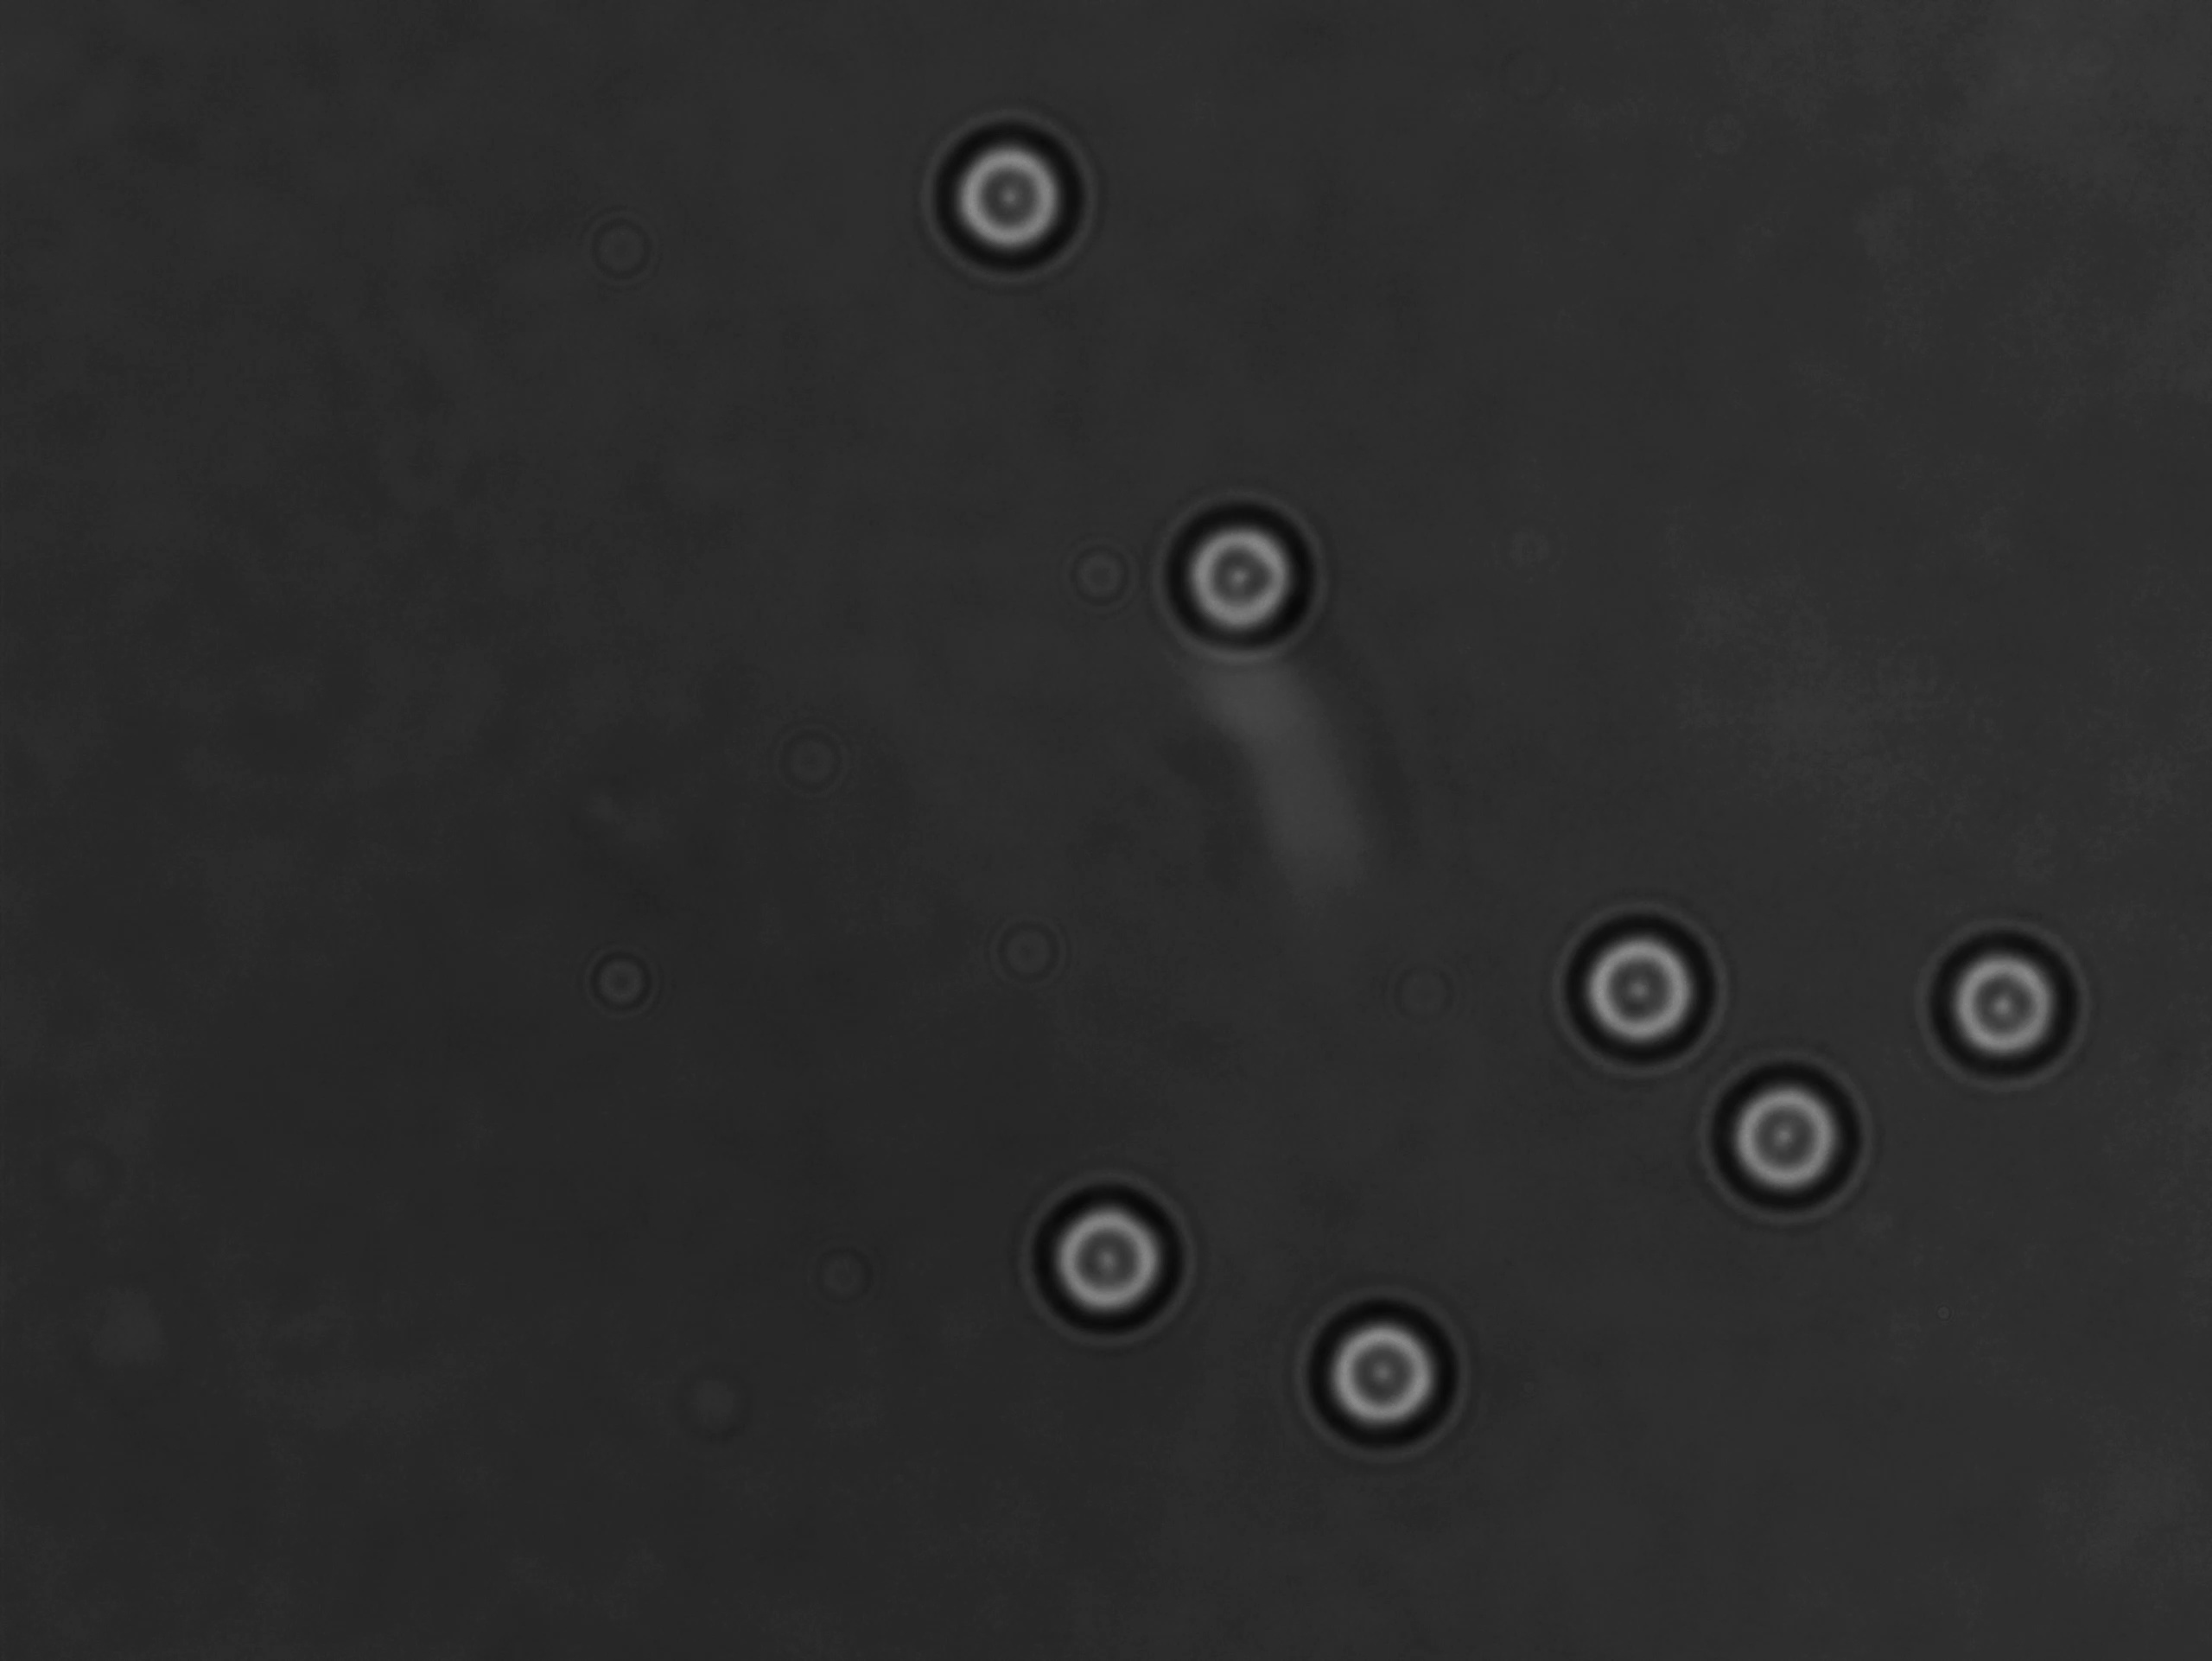depth:40: (1914, 892, 2095, 1083), (1155, 483, 1333, 663), (1537, 886, 1713, 1068), (1287, 1286, 1479, 1452), (1017, 1171, 1197, 1345), (904, 115, 1083, 286), (1706, 1049, 1874, 1213)
